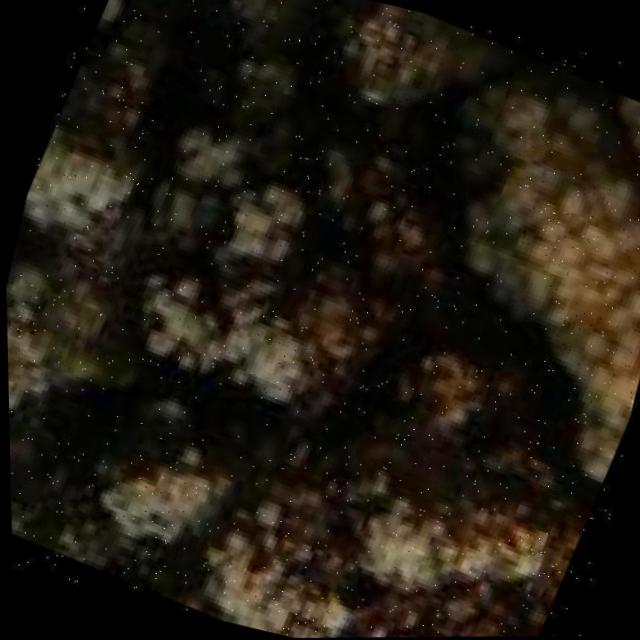Bleached Coral: (399, 31, 640, 498)
Dead Coral: (2, 118, 622, 640)
